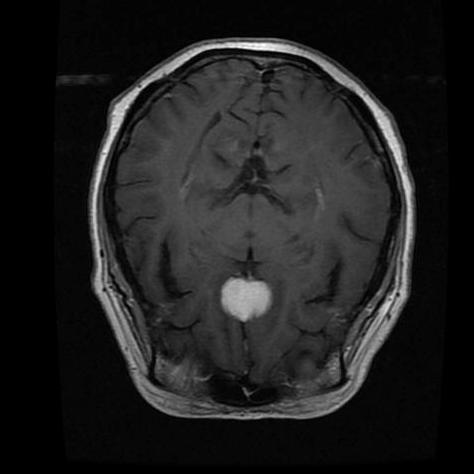Tumour-Pituitary: (212, 254, 296, 333)
